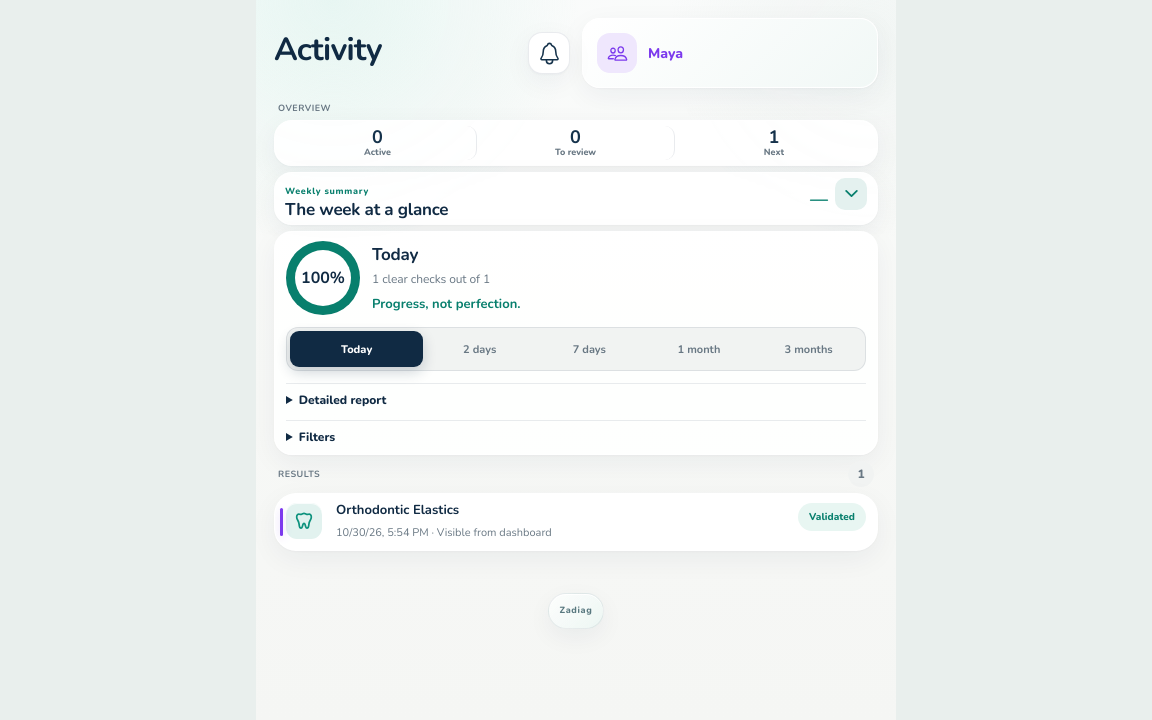
ParentDashboard › opens history details over the dashboard without navigating to routines
Expected: the element that starts with "Overview" is shown, x1=274 y1=102 x2=878 y2=551
Click the button with class "history-row-open-button": point(576, 522) x1=275 y1=494 x2=877 y2=550
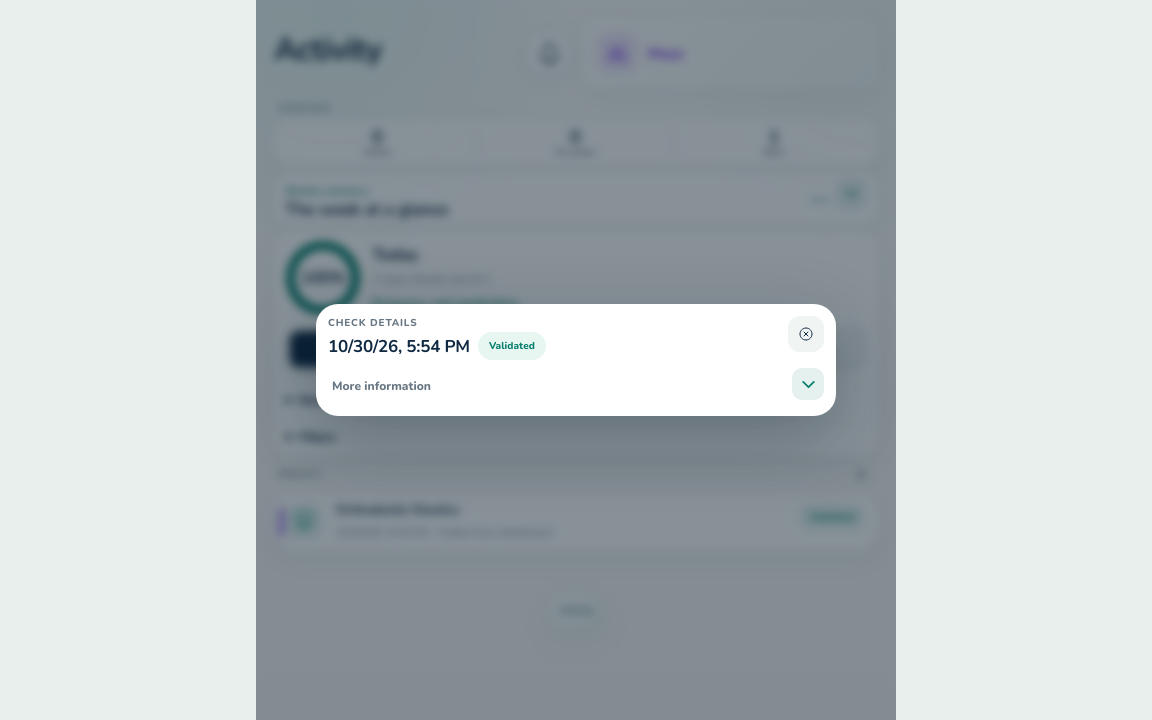
Click the button named "Show all information": point(808, 384) x1=792 y1=368 x2=824 y2=400
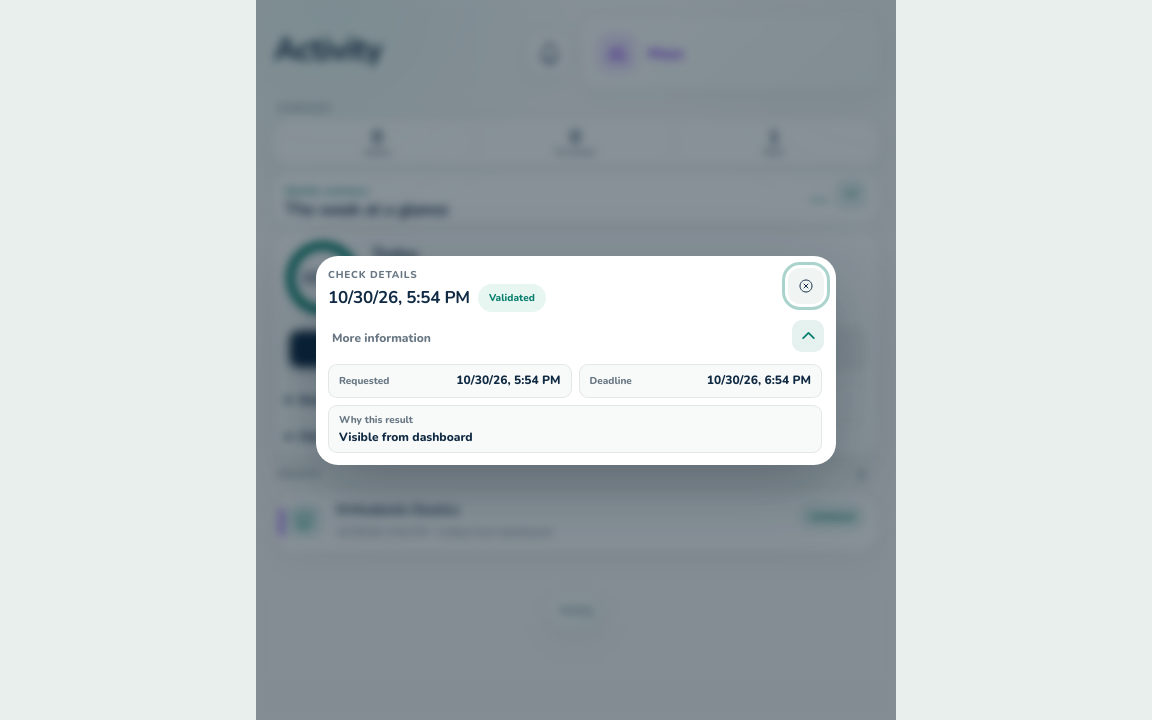
Expected: the element that starts with "Activity" is shown, x1=256 y1=0 x2=896 y2=719
Expected: the dialog with class "history-detail-dialog" shows "Visible from dashboard", x1=339 y1=428 x2=473 y2=444
